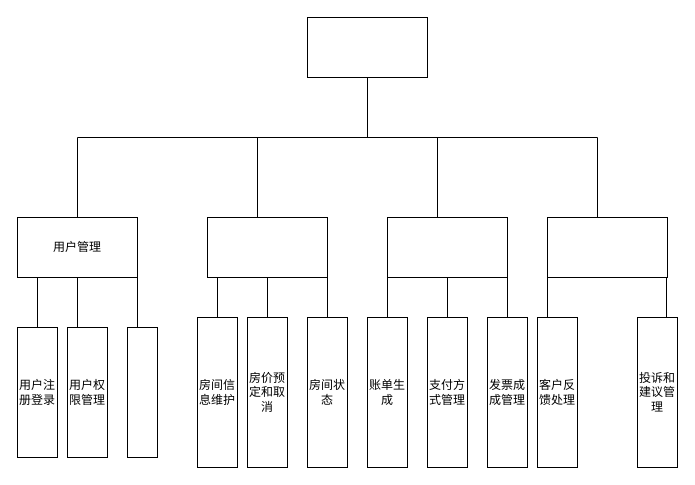
Image size: 695x485. Some labels were removed from this diagram. The shapes that lost their labels are listed below. From the top down, each one's centre as x and y in pixels, then its label:
At (367,47): "后台管理系统".
At (267,247): "房间管理".
At (447,247): "结账管理".
At (607,247): "客户服务管理".
At (142,392): "用户信息编辑".
